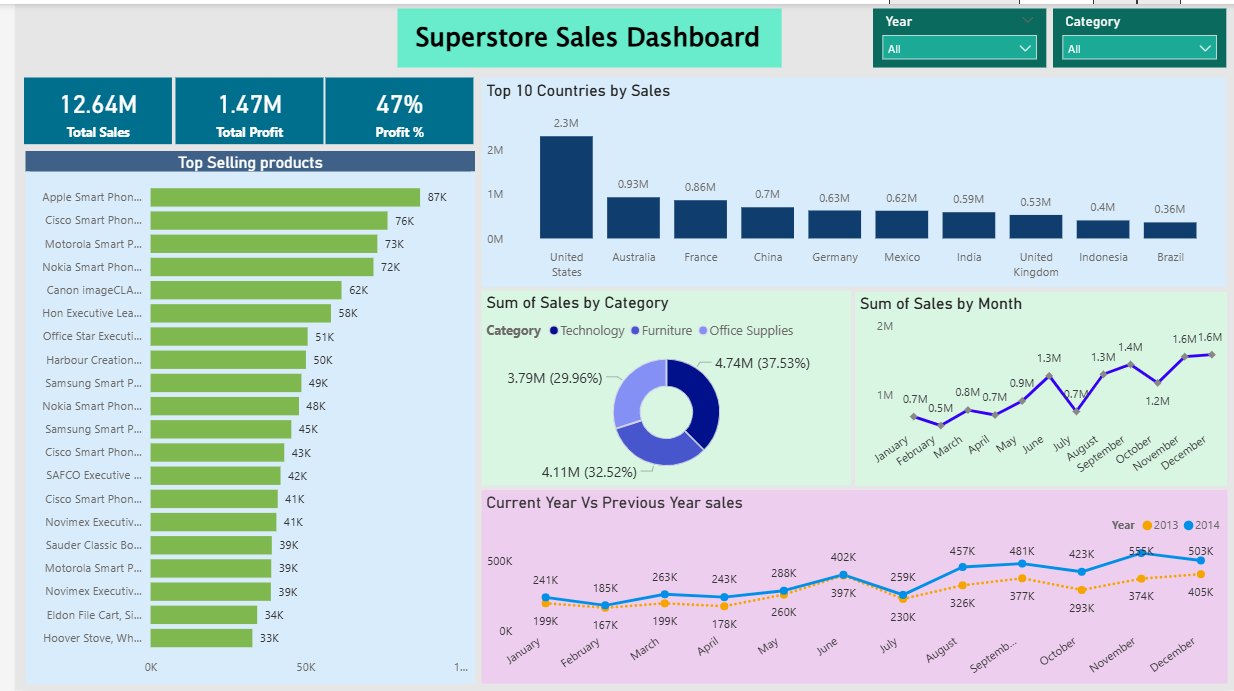

What the dashboard file says about the page in this screenshot:
{"tool":"powerbi","page":{"name":"Page 1","canvas":[1280,720],"ordinal":0},"visuals":[{"type":"card","fields":{"Values":["Sum(CSV_Superstore_Cleaned.Sales)"]},"box":[10,76.7,155,70],"z":0},{"type":"clusteredColumnChart","title":"Top 10 Countries by Sales","fields":{"Category":["CSV_Superstore_Cleaned.Country"],"Y":["Sum(CSV_Superstore_Cleaned.Sales)"]},"box":[490,76.7,781.7,220],"z":1000},{"type":"card","fields":{"Values":["Sum(CSV_Superstore_Cleaned.Profit)"]},"box":[168.3,76.7,155,70],"z":2000},{"type":"donutChart","fields":{"Category":["CSV_Superstore_Cleaned.Category"],"Y":["Sum(CSV_Superstore_Cleaned.Sales)"]},"box":[489.2,301.5,387.7,204.6],"z":3000},{"type":"clusteredBarChart","title":"Top Selling products","fields":{"Category":["CSV_Superstore_Cleaned.Product Name"],"Y":["Sum(CSV_Superstore_Cleaned.Sales)"]},"box":[10.8,153.8,472.3,560],"z":4000},{"type":"lineChart","fields":{"Category":["CSV_Superstore_Cleaned.Order Date.Variation.Date Hierarchy.Month"],"Y":["Sum(CSV_Superstore_Cleaned.Sales)"]},"box":[881.5,303.1,390.8,203.1],"z":5000},{"type":"slicer","fields":{"Values":["CSV_Superstore_Cleaned.Year"]},"box":[901.7,5,181.7,61.7],"z":6000},{"type":"slicer","fields":{"Values":["CSV_Superstore_Cleaned.Category"]},"box":[1090,5,181.7,61.7],"z":7000},{"type":"lineChart","title":"Current Year Vs Previous Year sales","fields":{"Category":["CSV_Superstore_Cleaned.Order Date.Variation.Date Hierarchy.Month"],"Y":["Sum(CSV_Superstore_Cleaned.Sales)"],"Series":["CSV_Superstore_Cleaned.Year"]},"box":[489.2,510.8,783.1,203.1],"z":8000},{"type":"textbox","box":[401.7,5,403.3,61.7],"z":9000},{"type":"card","fields":{"Values":["Sum(CSV_Superstore_Cleaned.profit%)"]},"box":[326.7,76.7,155,70],"z":10000}]}

Visuals, with their boxes in screenshot pixels (x1, y1, x2, y2), scaled from the page's 1280x720 canvas onto the 1234x691 screenshot:
card - Sum(CSV_Superstore_Cleaned.Sales): crop(10, 74, 159, 141)
"Top 10 Countries by Sales" clusteredColumnChart: crop(472, 74, 1226, 285)
card - Sum(CSV_Superstore_Cleaned.Profit): crop(162, 74, 312, 141)
donutChart - CSV_Superstore_Cleaned.Category x Sum(CSV_Superstore_Cleaned.Sales): crop(472, 289, 845, 486)
"Top Selling products" clusteredBarChart: crop(10, 148, 466, 685)
lineChart - CSV_Superstore_Cleaned.Order Date.Variation.Date Hierarchy.Month x Sum(CSV_Superstore_Cleaned.Sales): crop(850, 291, 1227, 486)
slicer - CSV_Superstore_Cleaned.Year: crop(869, 5, 1044, 64)
slicer - CSV_Superstore_Cleaned.Category: crop(1051, 5, 1226, 64)
"Current Year Vs Previous Year sales" lineChart: crop(472, 490, 1227, 685)
textbox: crop(387, 5, 776, 64)
card - Sum(CSV_Superstore_Cleaned.profit%): crop(315, 74, 464, 141)
